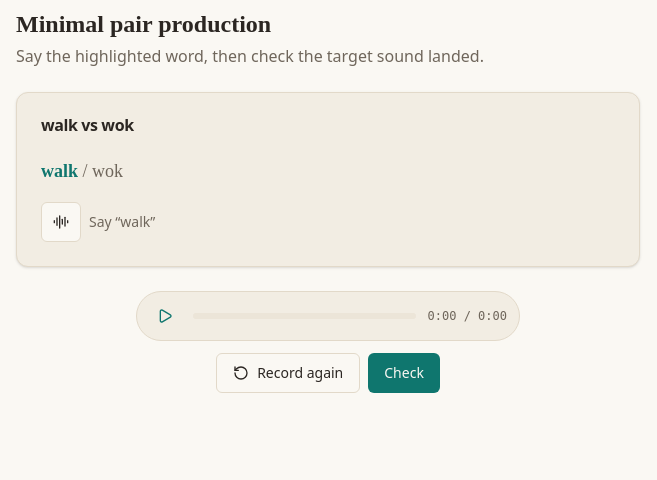
Test: ProductionDrill › should prompt to say it again when the word was not recognized
What coordinates should you click on to do the following:
click the button "Check"
I would click on:
 (404, 373)
Its box is 368,353 -> 440,393.
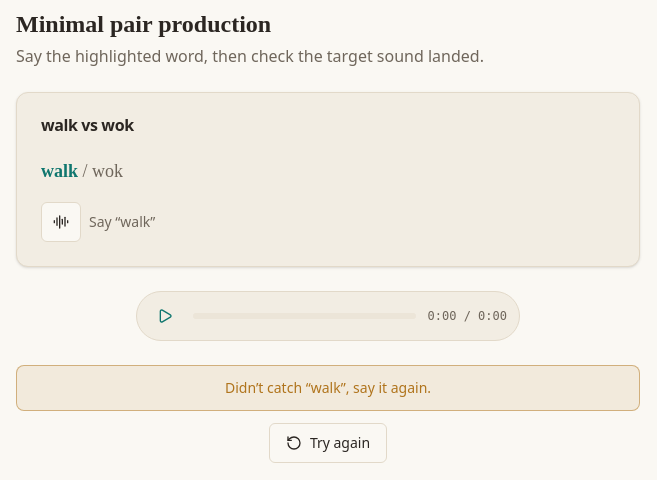
Expected: the message shows "Didn’t catch", 225,378 -> 311,397
